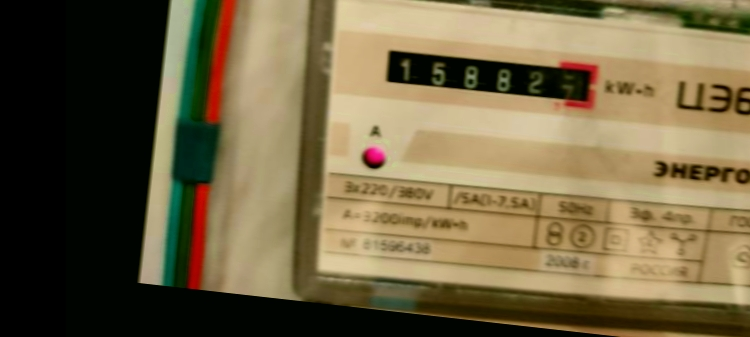1: (396, 59, 413, 85)
2: (525, 71, 543, 97)
5: (428, 61, 447, 89)
7: (558, 83, 574, 103)
8: (460, 66, 479, 94), (493, 69, 511, 95)
screen: (368, 35, 607, 124)
